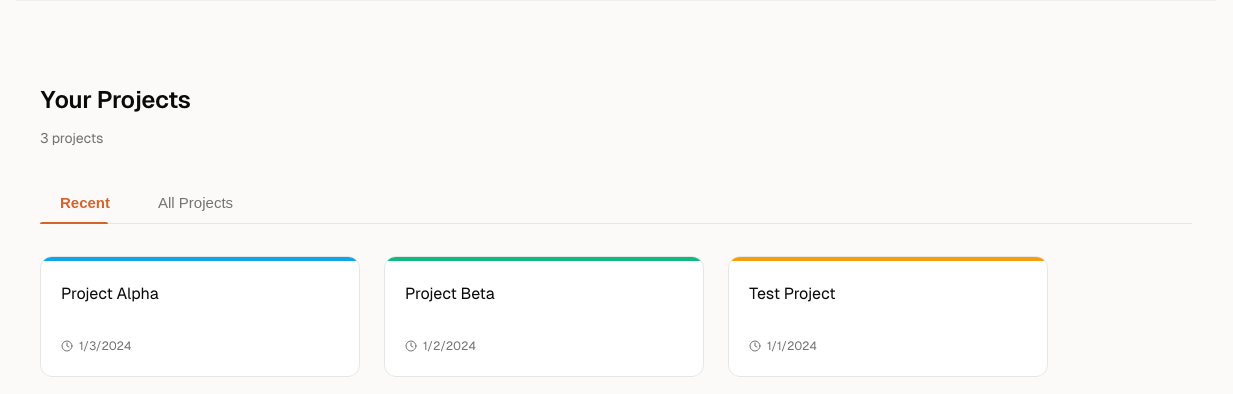
Test case: ProjectGallery › should filter projects by search query
This screenshot has width=1233, height=394.
Click the tab "All Projects" at (196, 202), box x1=138 y1=182 x2=253 y2=223
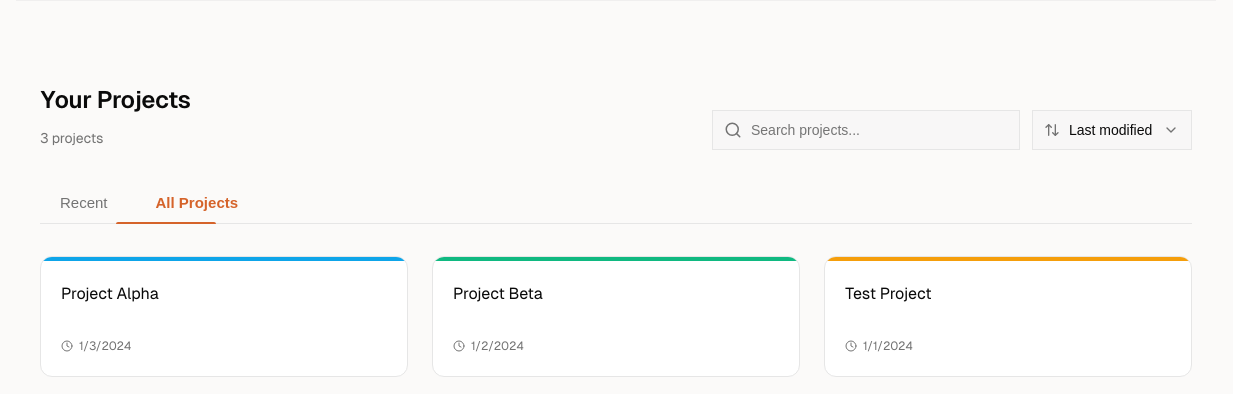
Type "Alpha" into the search field with placeholder "Search projects..." at (866, 130), box x1=712 y1=110 x2=1020 y2=150
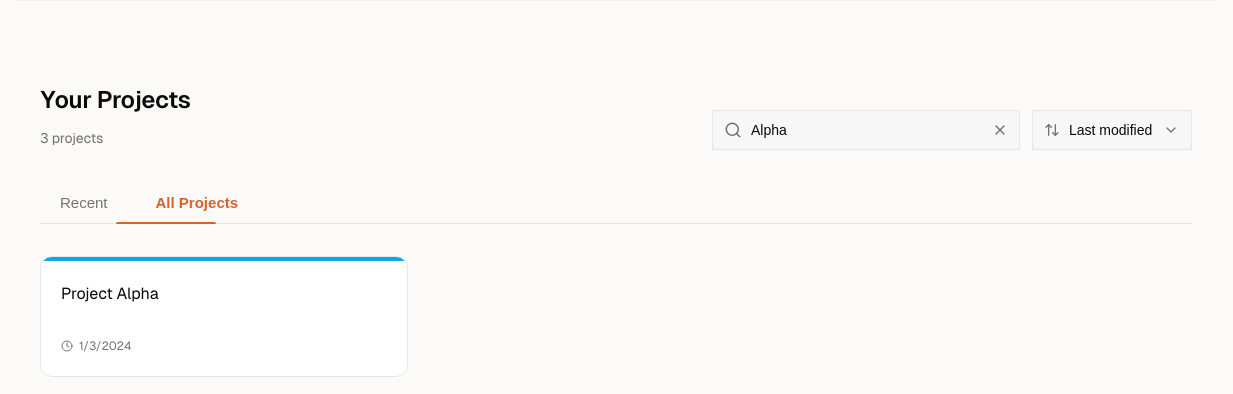
Check: the text "Project Alpha" is shown, box x1=61 y1=284 x2=159 y2=303
Check: the button "Project Beta" is gone
Check: the button "Test Project" is gone
